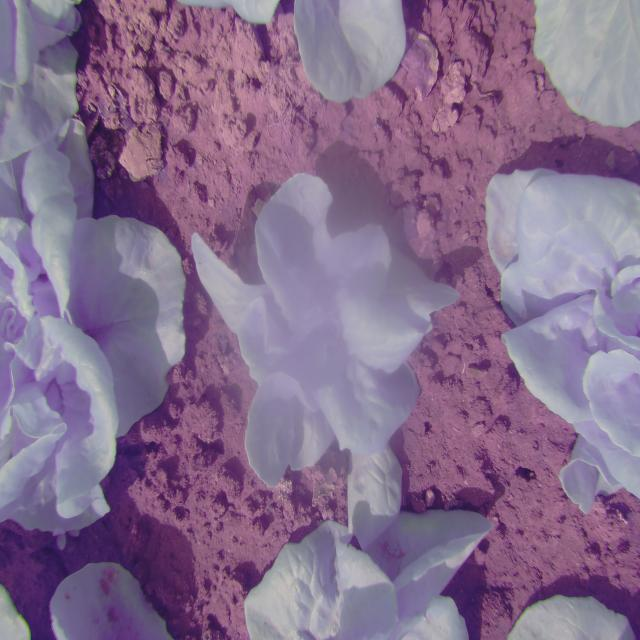vege: (191, 164, 436, 509)
